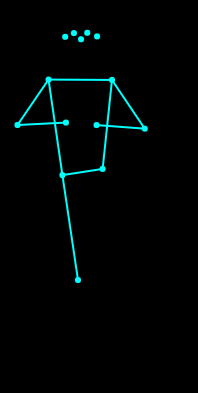tree: (8, 15, 154, 299)
